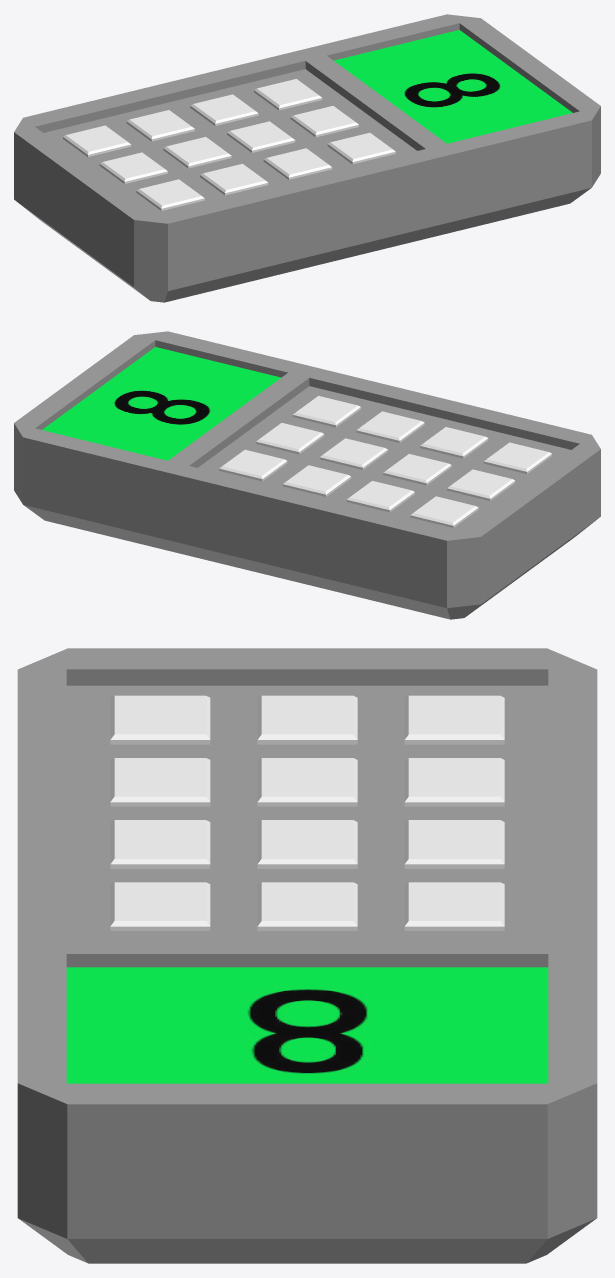
File: phone_4_solved.glb
3 views of the same model, one above another, from view 1: azimuth 30°, elevation 25°; view 2: azimuth 150°, elevation 25°; view 3: azimuth 270°, elevation 25° (orthographic). The views are drawn at different scales.
Visible parts, largest first — view 1: phone_4_solved; view 2: phone_4_solved; view 3: phone_4_solved.
Part boxes in pixels (bbox=[...]): phone_4_solved: bbox=[14, 14, 600, 302]; phone_4_solved: bbox=[14, 331, 600, 619]; phone_4_solved: bbox=[17, 648, 597, 1263].
Size of the model in its own units: 0.3353 by 0.0622 by 0.1801.
Materials: 4 (2 with a texture image).
